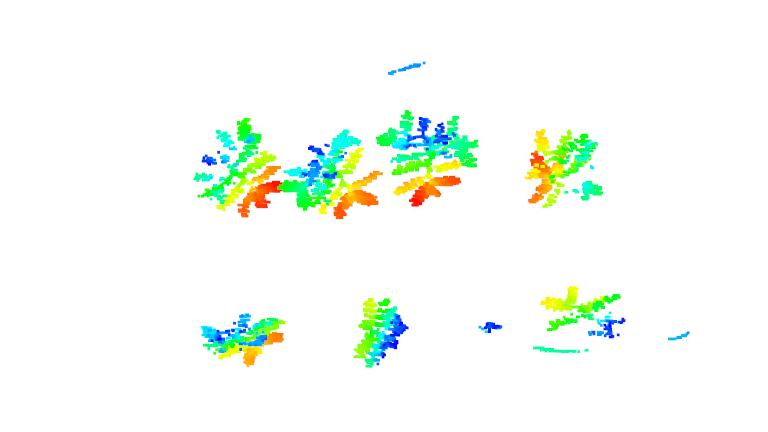chickpea: (190, 115, 287, 223), (376, 107, 479, 205), (295, 124, 379, 219), (523, 122, 607, 209), (196, 309, 289, 372), (539, 281, 625, 343), (348, 295, 407, 370)
